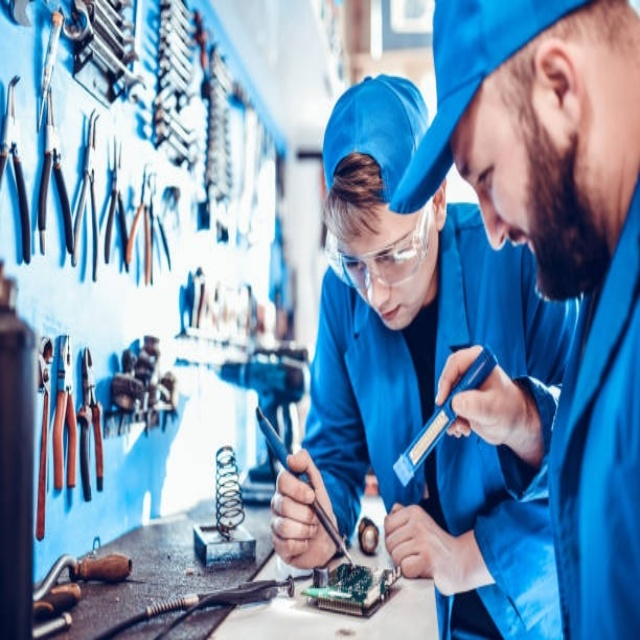Gafas: (325, 195, 434, 295)
Sin_gafas: (455, 130, 510, 205)
Sin_guantes: (439, 343, 538, 460), (269, 449, 341, 568), (381, 498, 469, 588)
Sin_mascara: (502, 224, 554, 301), (376, 306, 410, 334)
